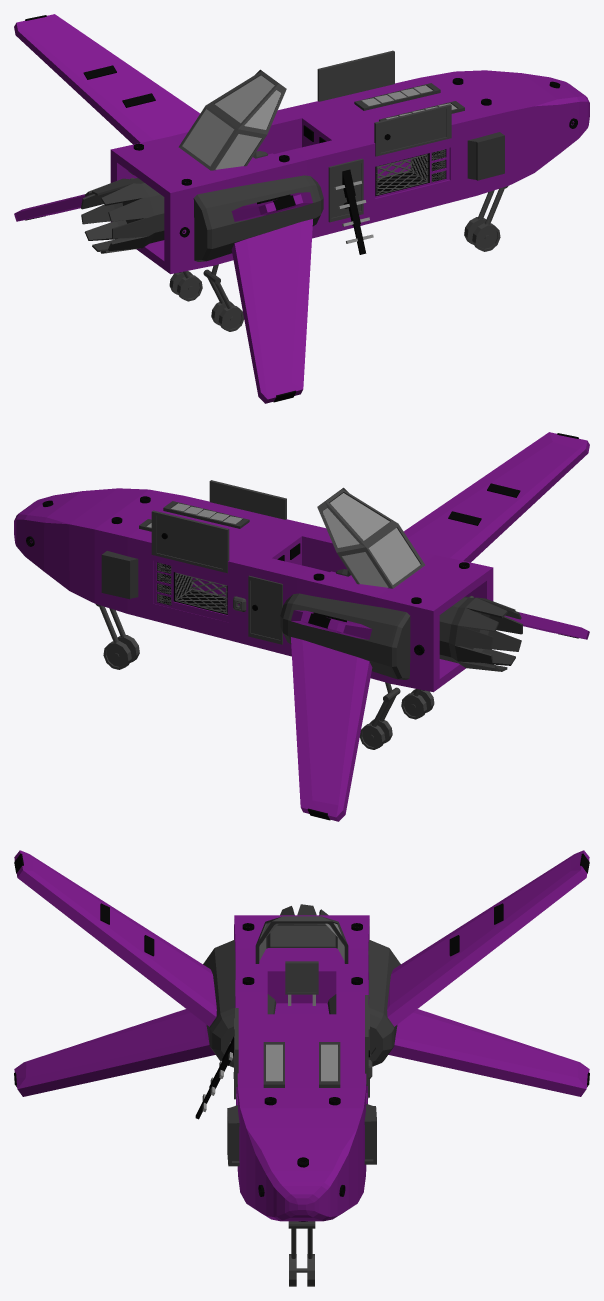
Rendered from FighterGen7_purple_open.glb.
3 renders of one model, top to bottom at view 1: azimuth 30°, elevation 25°; view 2: azimuth 150°, elevation 25°; view 3: azimuth 270°, elevation 25°, orthographic. The views are drawn at different scales.
Parts seen in each view (by area): view 1: Body, Cube.003, Cylinder, Cylinder.002, Cube.116, Cube.114, Cube.099, Cube.043, Cube.104, Cube.120, Cube.102, Cube.007 (+7 smaller); view 2: Body, Cube.003, Cylinder, Cylinder.002, Cube.114, Cube.099, Cube.115, Cube.116, Cube.043, Cube.104, Cube.102, Cube.036 (+7 smaller); view 3: Cube.003, Body, Cylinder, Cube.043, Cube.104, Cube.099, Cube.094, Cube.108.
Boxes of the visible parts, box(x1,y1,x2,y2) form: Body: box(110, 70, 589, 274); Cube.003: box(14, 14, 312, 403); Cylinder: box(193, 151, 323, 261); Cylinder.002: box(81, 178, 164, 253); Cube.116: box(374, 104, 451, 156); Cube.114: box(317, 50, 394, 101); Cube.099: box(178, 69, 286, 170); Cube.043: box(467, 132, 504, 180); Cube.104: box(182, 109, 234, 166); Cube.120: box(328, 158, 363, 222); Cube.102: box(215, 75, 274, 123); Cube.007: box(376, 154, 428, 195); Body: box(14, 488, 493, 692); Cube.003: box(291, 432, 589, 821); Cylinder: box(280, 569, 410, 679); Cylinder.002: box(439, 596, 522, 671); Cube.114: box(151, 510, 229, 573); Cube.099: box(317, 487, 425, 588); Cube.115: box(248, 575, 282, 644); Cube.116: box(209, 480, 286, 519); Cube.043: box(101, 551, 138, 599); Cube.104: box(368, 528, 420, 584); Cube.102: box(330, 493, 389, 540); Cube.036: box(175, 572, 227, 613); Cube.003: box(14, 850, 589, 1096); Body: box(234, 915, 369, 1221); Cylinder: box(203, 939, 400, 1067); Cube.043: box(227, 1104, 376, 1166); Cube.104: box(270, 925, 335, 946); Cube.099: box(255, 916, 348, 963); Cube.094: box(285, 961, 318, 994); Cube.108: box(263, 1042, 340, 1087).
Size of the model in its own units: 18.67 by 8.1 by 16.83.
